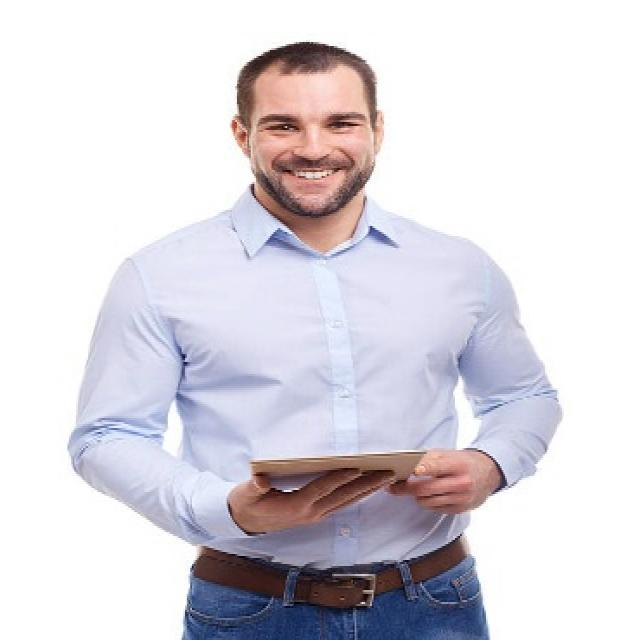adult: (74, 33, 547, 640)
